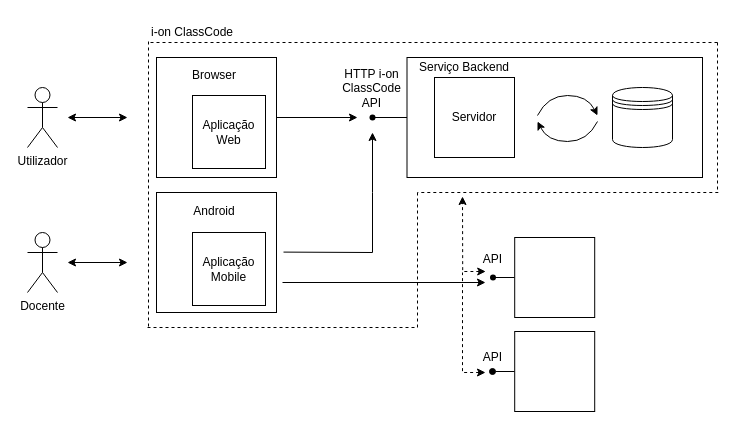
The diagram is 737 pixels wide and 429 high, and some of its shapes have lost their labels. Here are the shapes that lost their labels. From the top down, the centre of each, then its label:
At pixel 642 117: "Base de Dados".
At pixel 554 277: "GitHub".
At pixel 554 371: "SendGrid".
